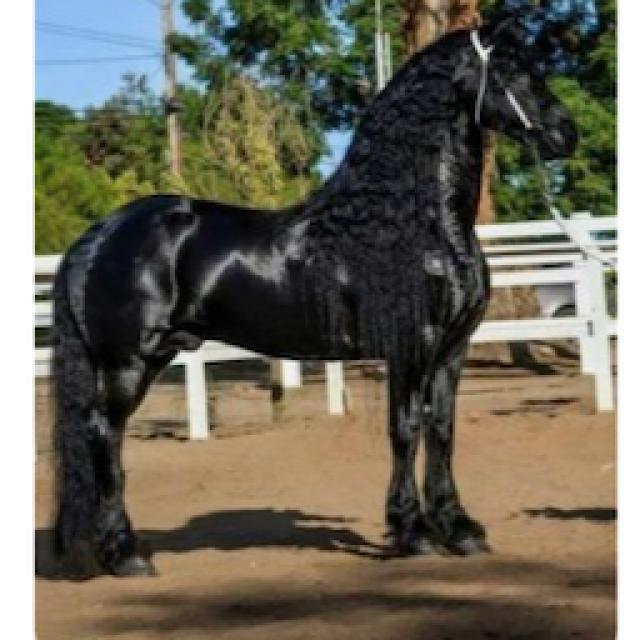Horse: (40, 0, 602, 580)
